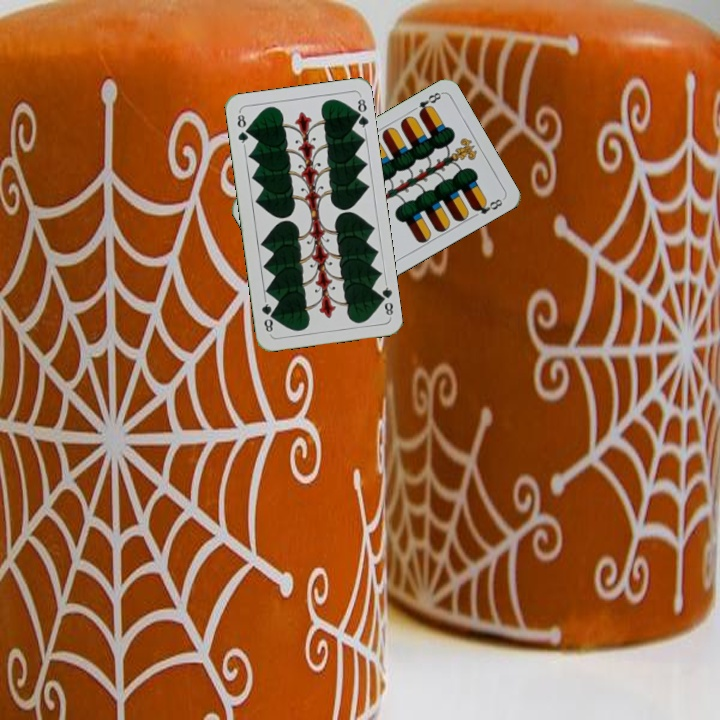E8: (414, 88, 444, 118)
G8: (375, 279, 396, 318), (233, 108, 251, 149)
